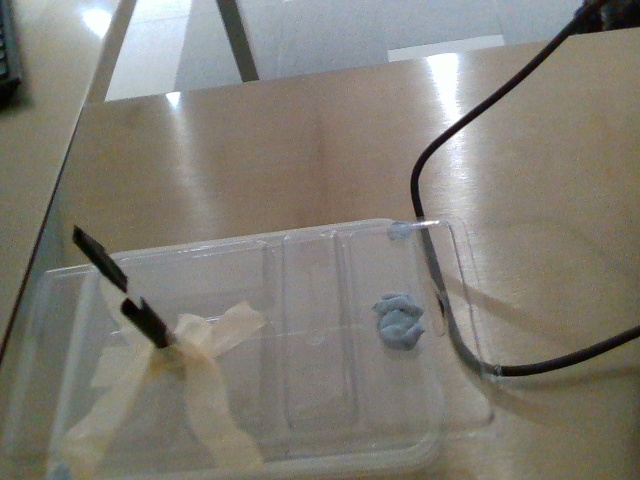test_strip: (68, 222, 143, 307)
